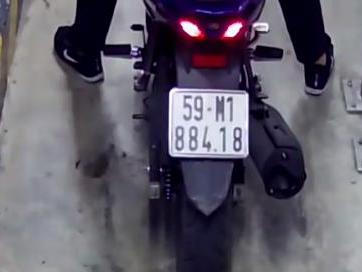num_plate: (168, 87, 248, 159)
